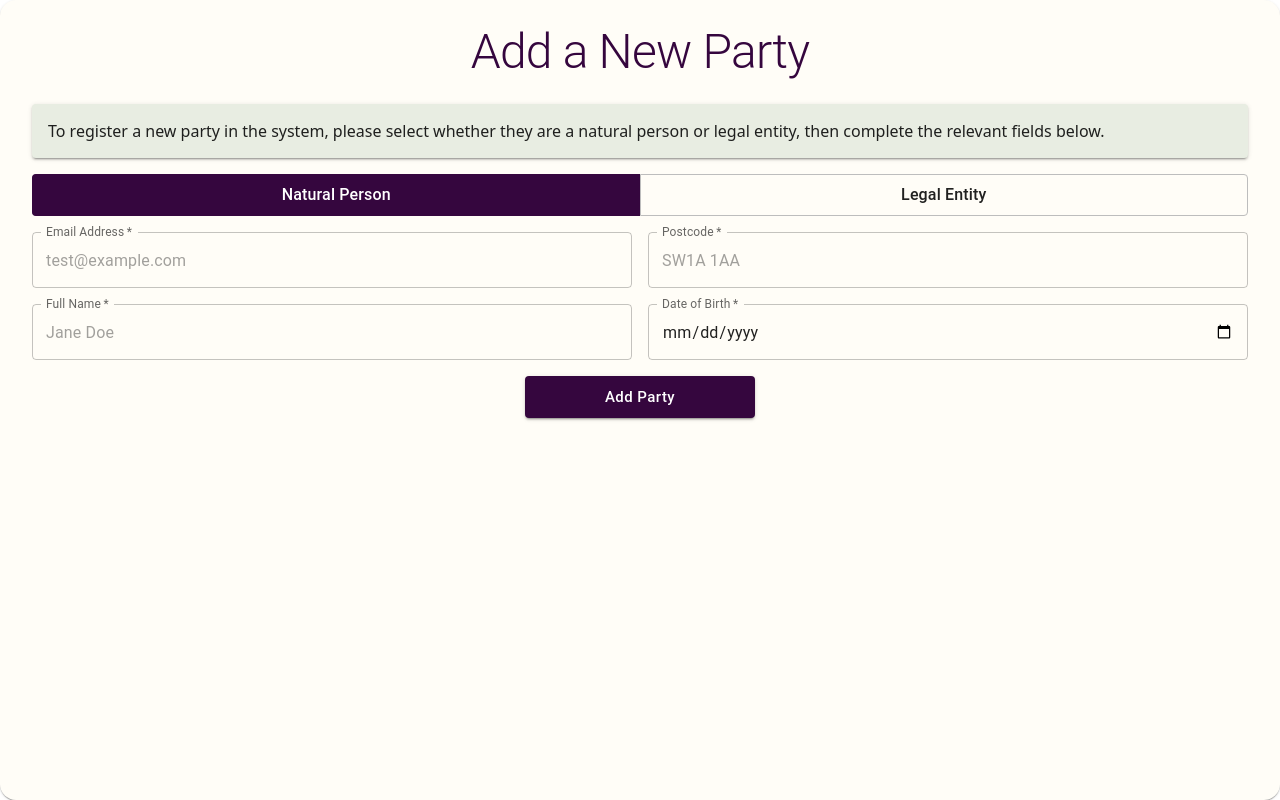
Test: CreatePartyForm › Shows required errors when an empty form is submitted
What coordinates should you click on to do the following:
click the button "Add Party"
I would click on:
 (640, 397)
Its box is [525,376,755,418].
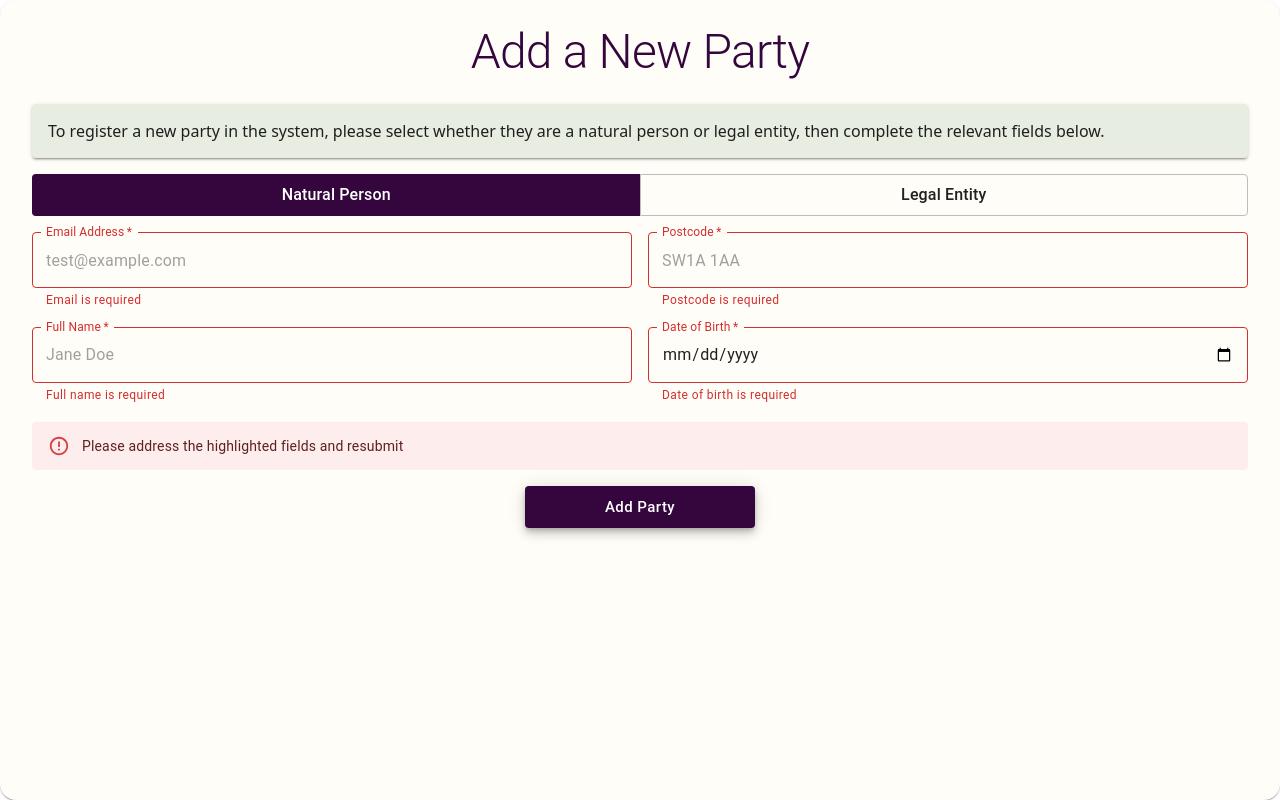
Now the text "Full name is required" is shown, box [46,388,165,402]
Now the text "Email is required" is shown, box [46,293,141,307]
Now the text "Postcode is required" is shown, box [662,293,780,307]
